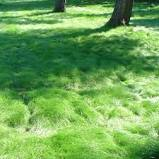grass: (1, 26, 159, 159)
